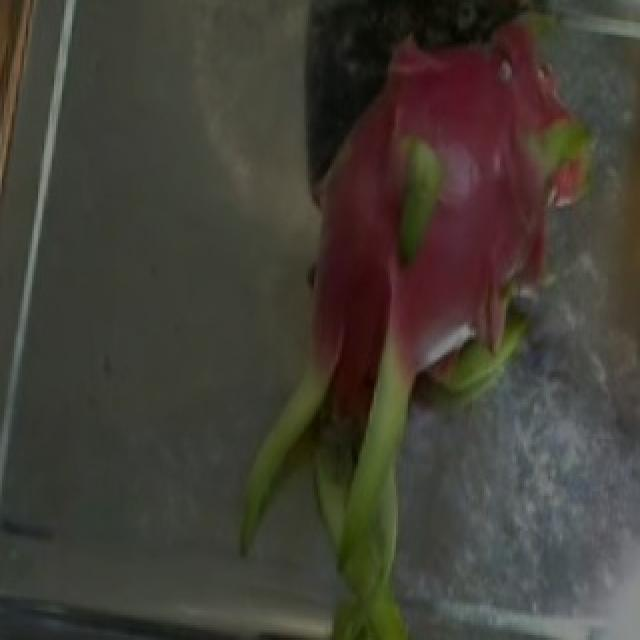fruit: (220, 30, 624, 501)
